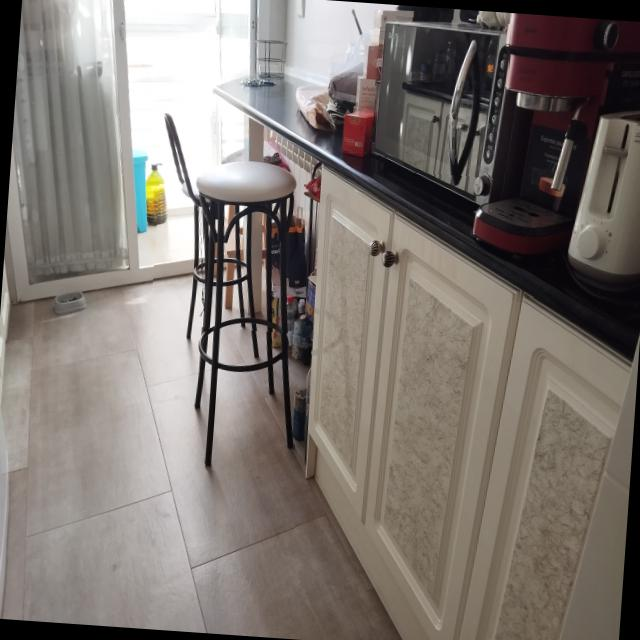cabinet: (308, 166, 515, 640), (462, 297, 629, 640)
chair: (195, 162, 296, 470), (165, 113, 206, 340)
countertop: (214, 74, 640, 357)
microwave: (372, 20, 509, 206)
